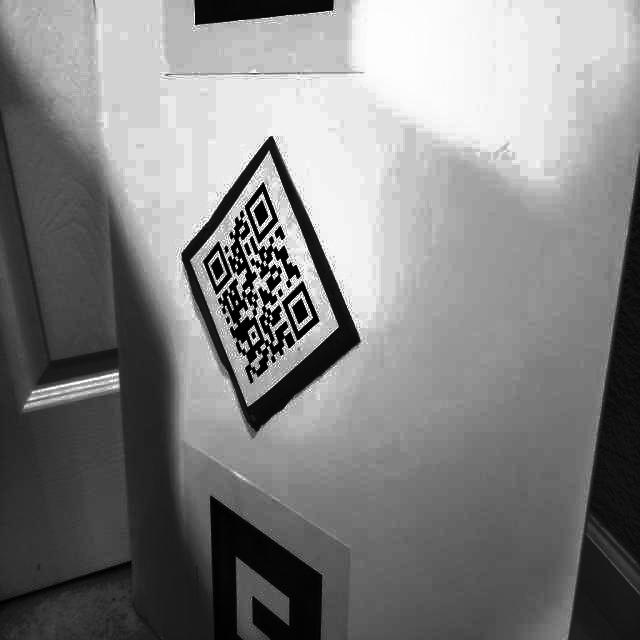qr_code: (200, 179, 322, 393)
